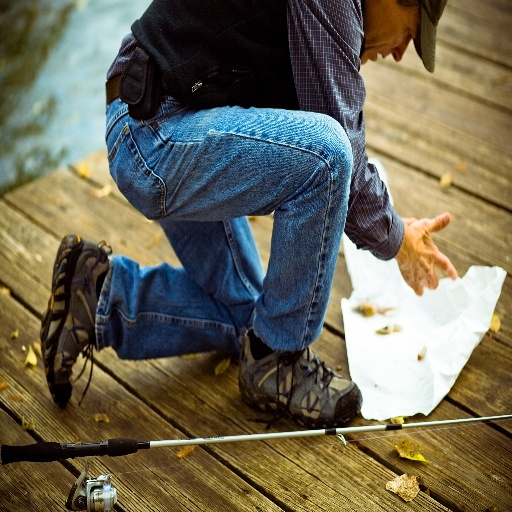hand: (397, 193, 461, 294), (401, 215, 420, 222)
